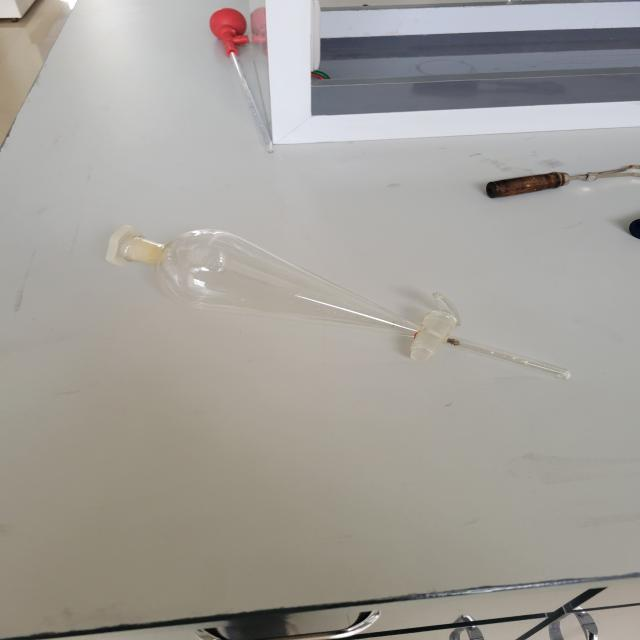Separating_Funnel: (72, 191, 592, 409)
